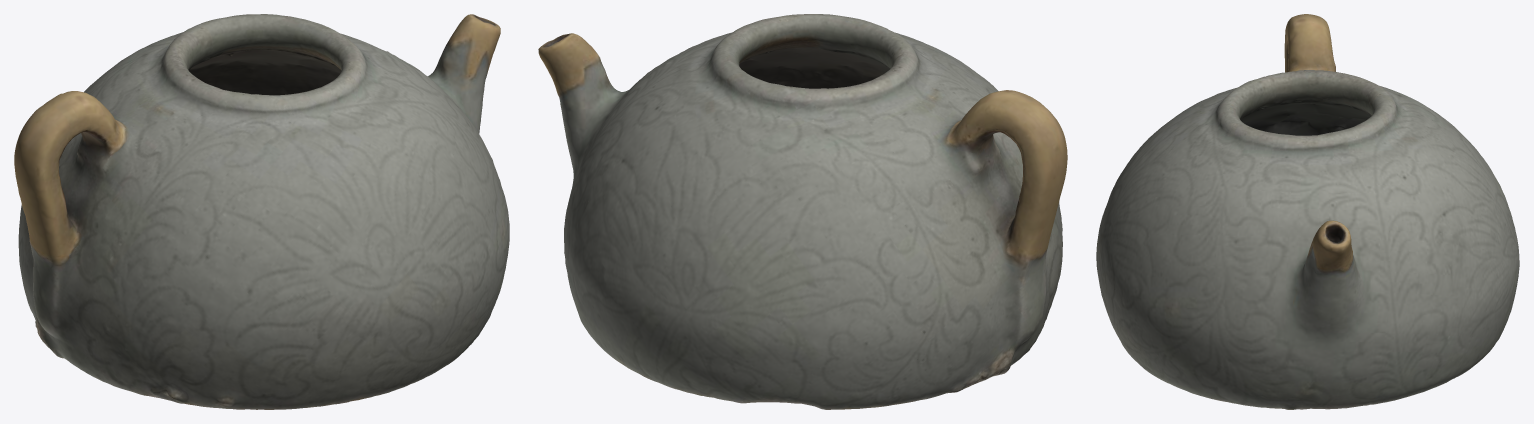
Rendered from ewer.glb.
3 renders of one model, left to right at view 1: azimuth 30°, elevation 25°; view 2: azimuth 150°, elevation 25°; view 3: azimuth 270°, elevation 25°, orthographic. The views are drawn at different scales.
Visible parts, largest first — view 1: Object_2, Object_3; view 2: Object_2, Object_3; view 3: Object_2, Object_3.
Part boxes in pixels (left/top/right/bottom): Object_2: left=14, top=14, right=509, bottom=409; Object_3: left=159, top=14, right=488, bottom=333; Object_2: left=538, top=14, right=1067, bottom=409; Object_3: left=543, top=33, right=748, bottom=183; Object_2: left=1096, top=14, right=1519, bottom=409; Object_3: left=1096, top=126, right=1396, bottom=341.
Size of the model in its own units: 0.0838 by 0.0444 by 0.0718.
1 material, 1 textured.
